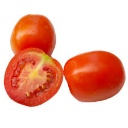tomato: (5, 47, 64, 105), (67, 51, 128, 103), (11, 13, 59, 60)
